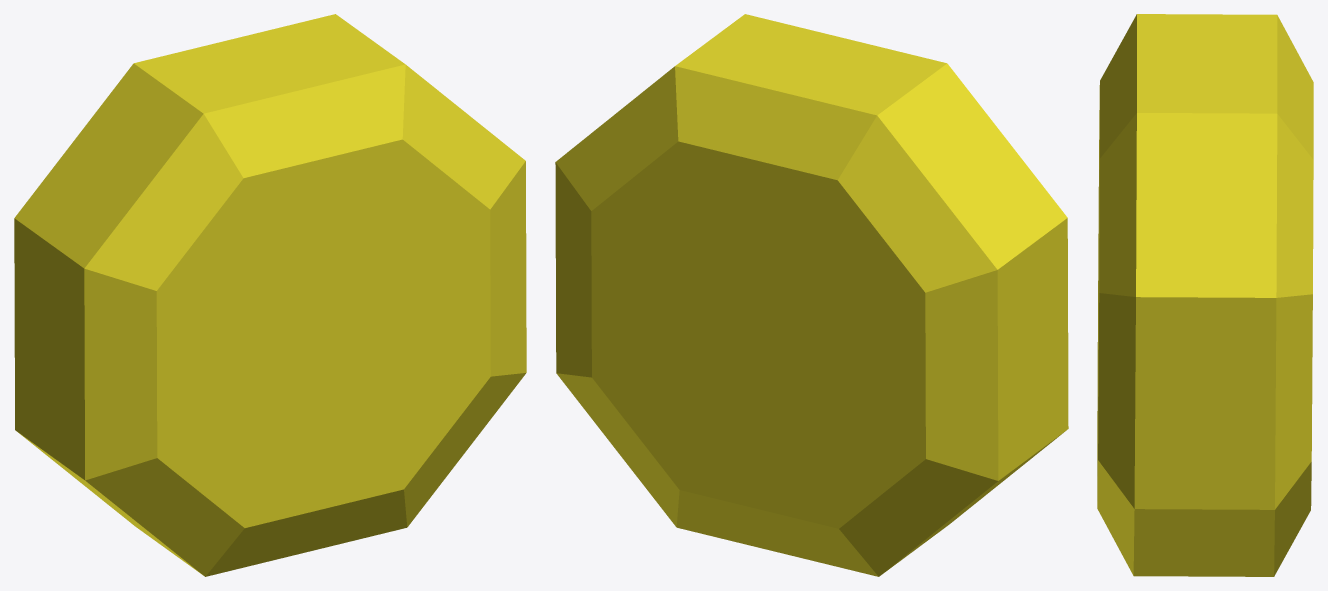
The model's file is CheeseWheel2.fbx.
3 renders of one model, left to right at view 1: azimuth 30°, elevation 25°; view 2: azimuth 150°, elevation 25°; view 3: azimuth 270°, elevation 25°, orthographic.
Visible parts, largest first — view 1: Cube; view 2: Cube; view 3: Cube.
Part boxes in pixels (<box>): Cube: <box>14,14,526,576</box>; Cube: <box>555,14,1068,576</box>; Cube: <box>1097,14,1313,576</box>.
Size of the model in its own units: 590 by 591 by 250.
